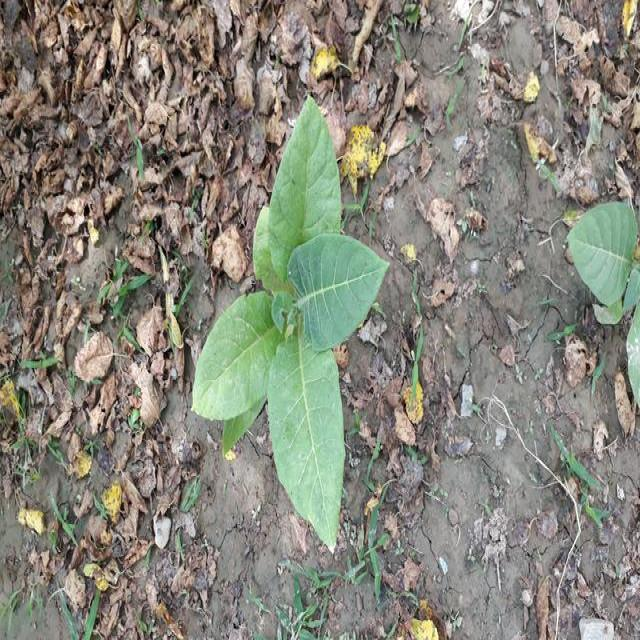crop: (190, 100, 382, 547), (570, 192, 640, 402)
